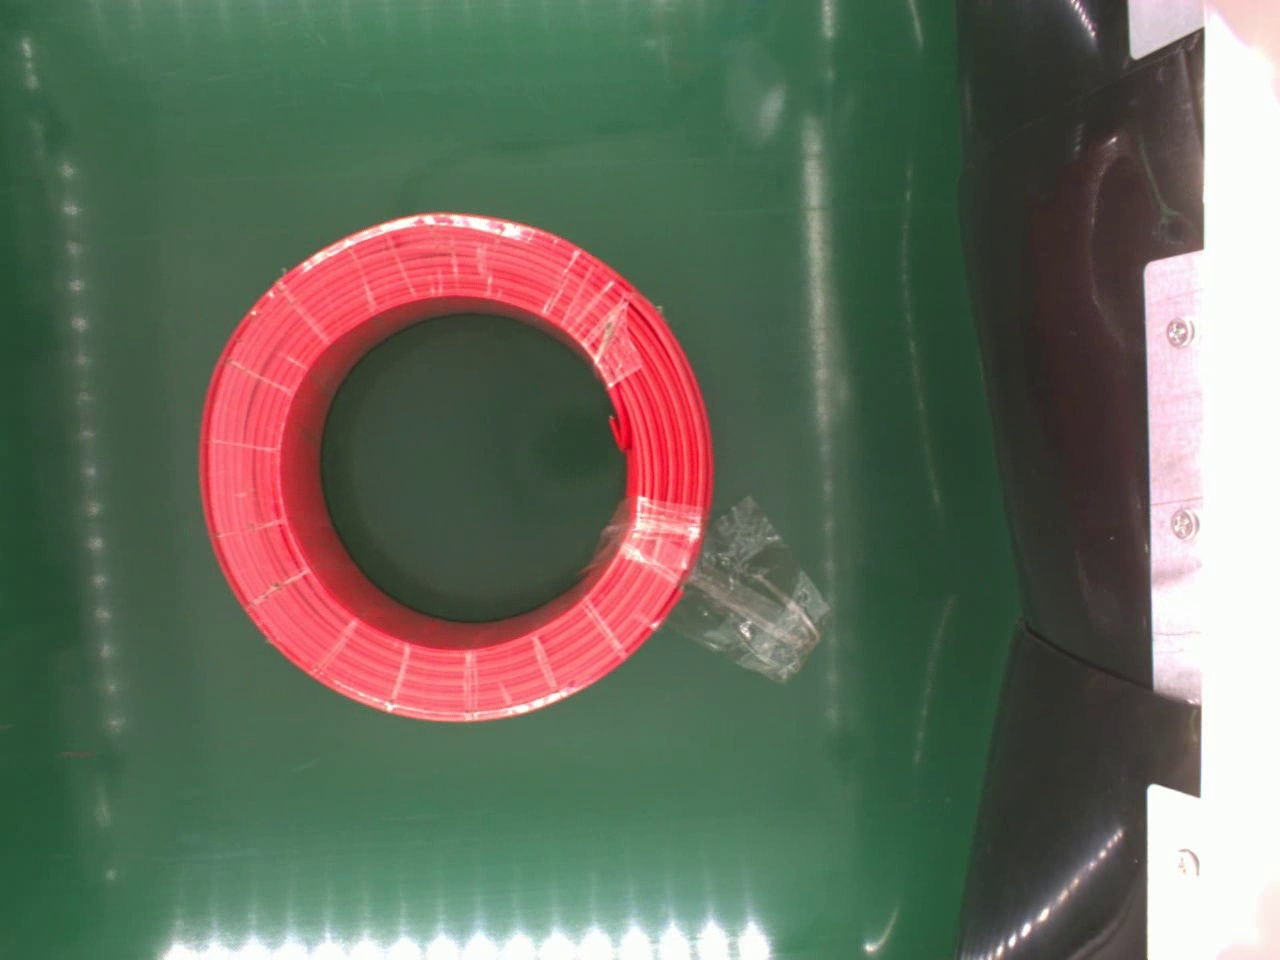red: (198, 203, 719, 722)
